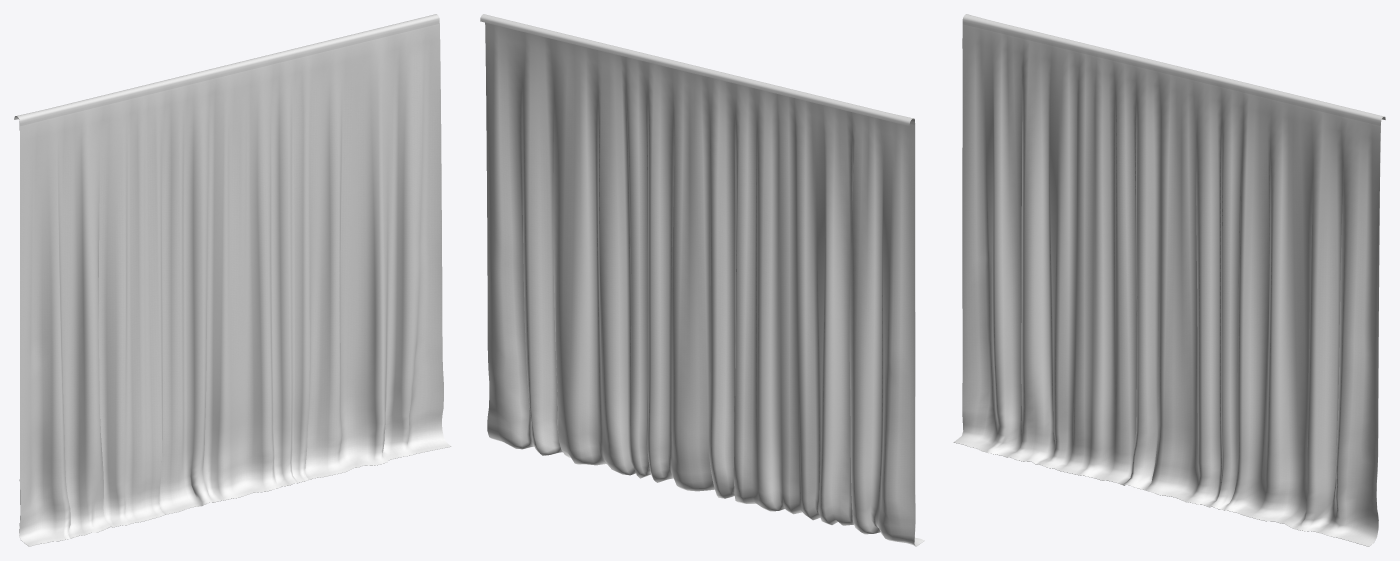
Rendered from PartyBackdrop01_5.FBX.
3 renders of one model, left to right at view 1: azimuth 30°, elevation 25°; view 2: azimuth 150°, elevation 25°; view 3: azimuth 330°, elevation 25°, orthographic. The views are drawn at different scales.
Parts seen in each view (by area): view 1: PartyBackdrop01_5; view 2: PartyBackdrop01_5; view 3: PartyBackdrop01_5.
Part boxes in pixels (x1,y1,x2,y2): PartyBackdrop01_5: [14, 14, 451, 546]; PartyBackdrop01_5: [480, 14, 924, 546]; PartyBackdrop01_5: [953, 14, 1385, 546].
Size of what is drawn, in the model's own units: 2.61 by 2.51 by 0.1989.
